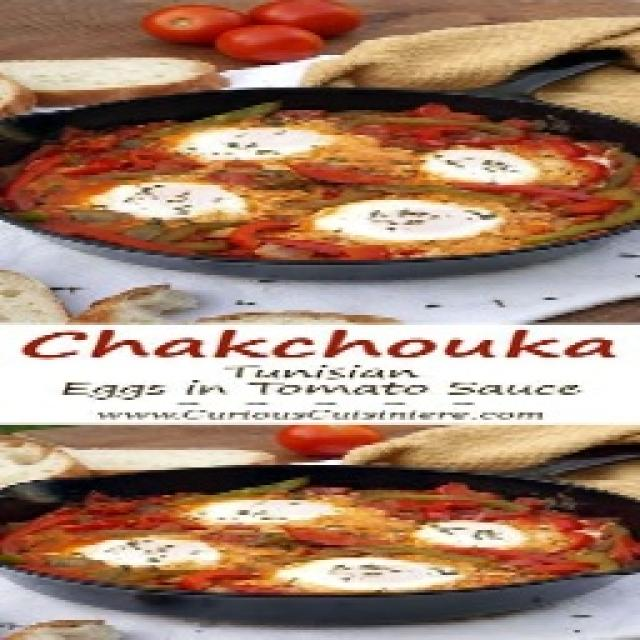Chakchouka: (0, 104, 640, 261), (0, 325, 640, 459), (0, 489, 555, 593)
